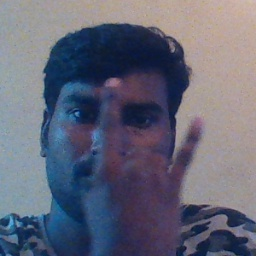V: (74, 73, 206, 256)
